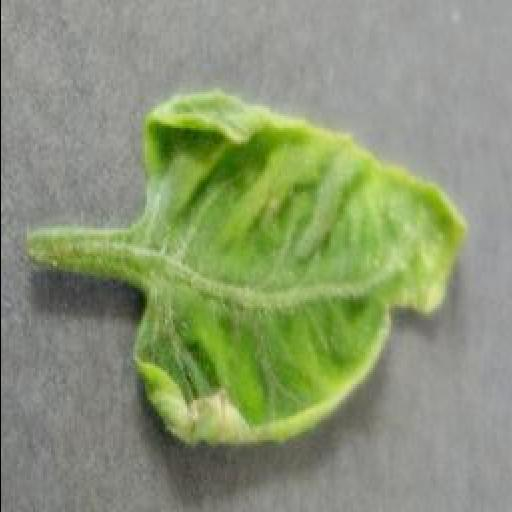disease_tomato: (128, 88, 470, 446)
